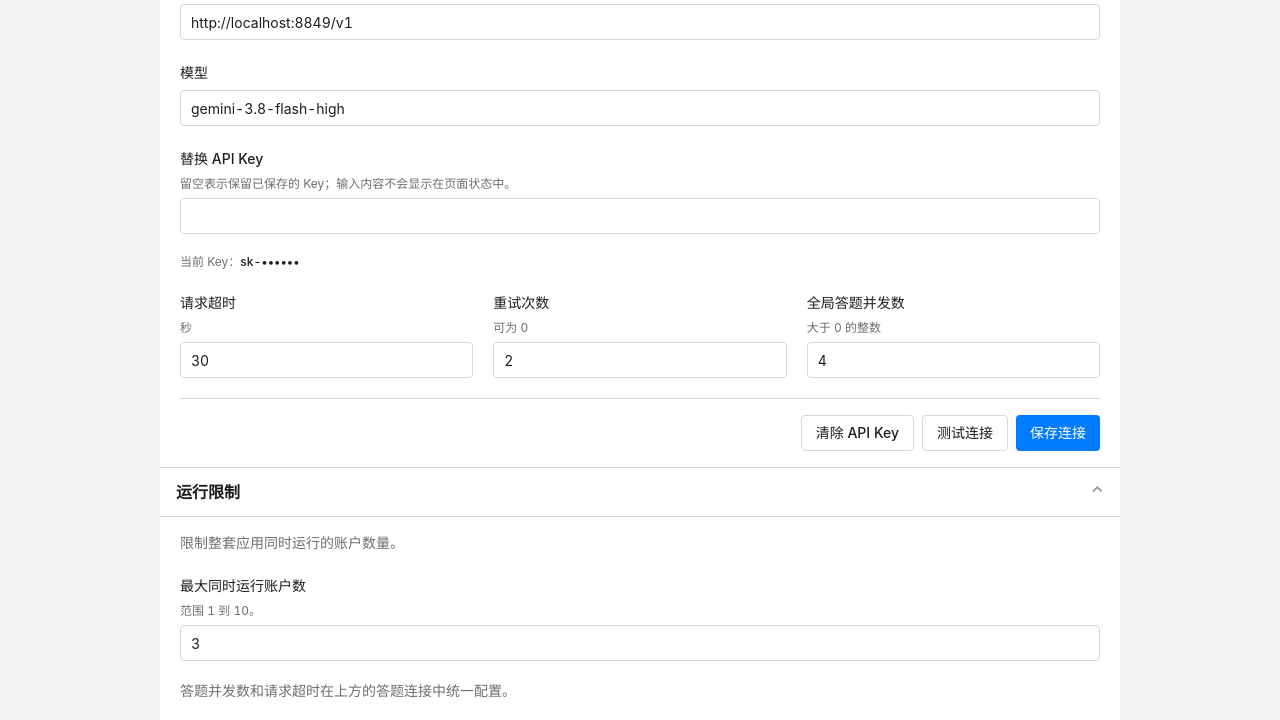
Test: validates 全局答题并发数 when saving the answer connection
The image size is (1280, 720).
(page scrolled)
Replace the text in the number field labelled "全局答题并发数" with "0". click: (953, 360)
box: [807, 342, 1100, 378]
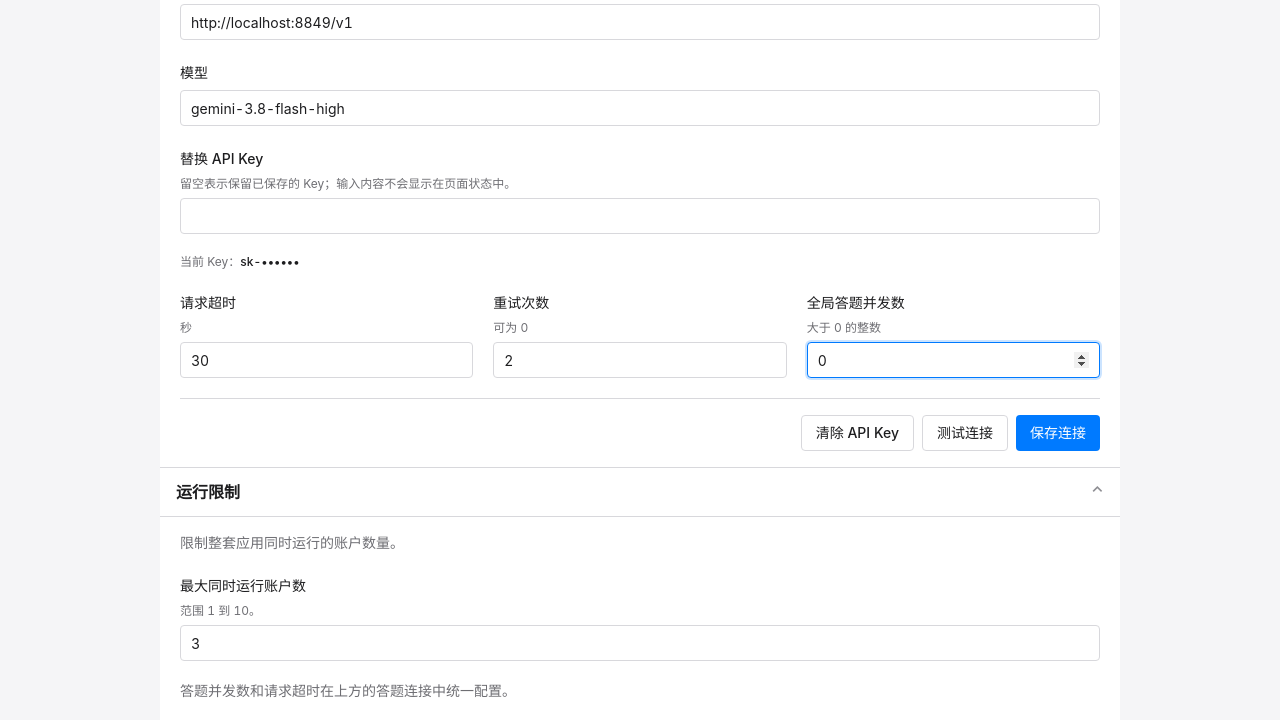
Click the button "保存连接". click: (1058, 433)
box: [1016, 415, 1100, 451]
(page scrolled)
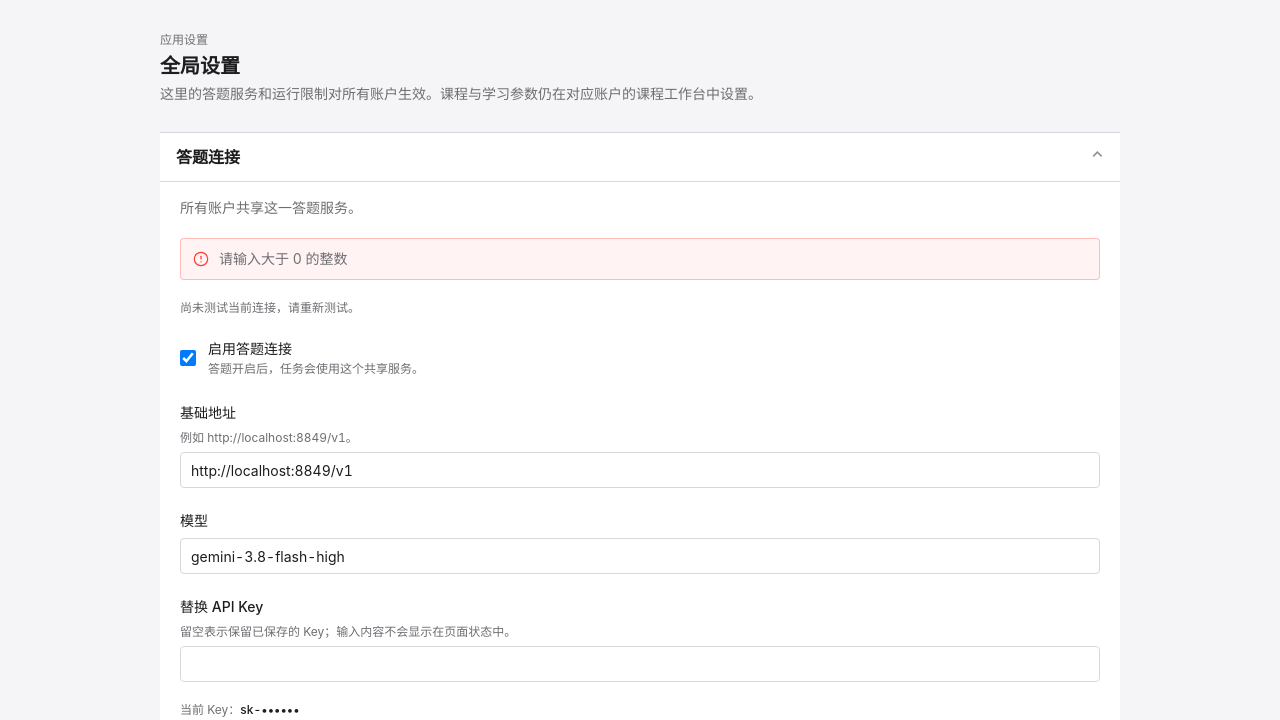
Check: the text "请输入大于 0 的整数" is shown, box [219, 250, 348, 267]
